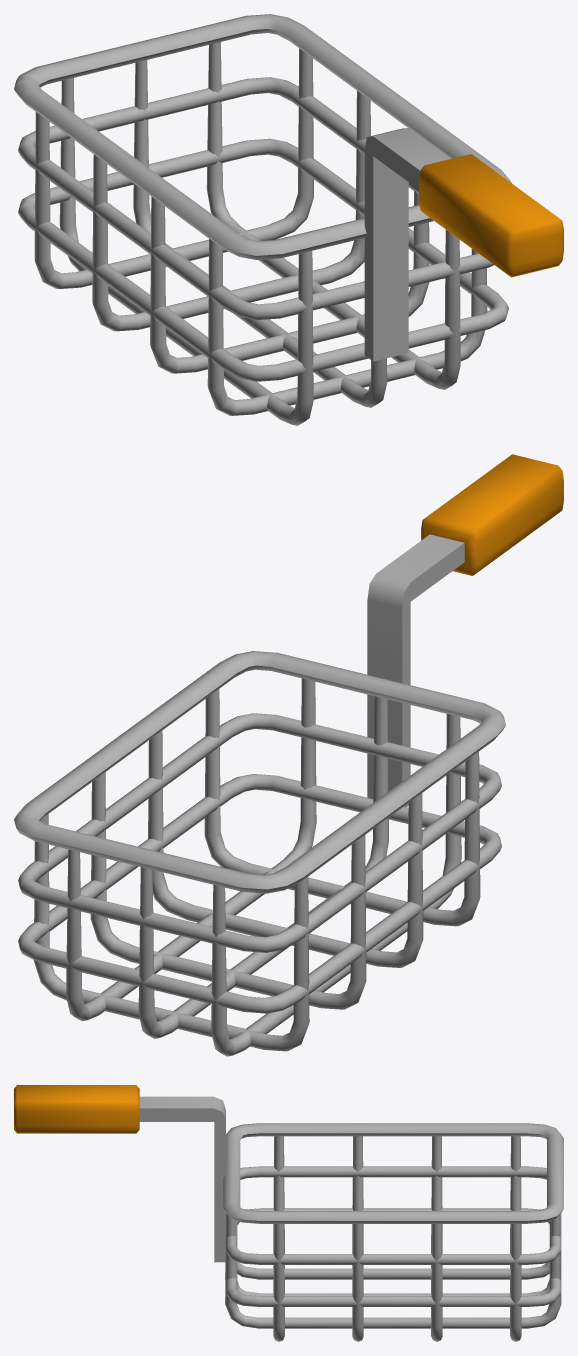
The model's file is Frying_Basket_01.fbx.
3 views of the same model, one above another, from view 1: azimuth 30°, elevation 25°; view 2: azimuth 150°, elevation 25°; view 3: azimuth 270°, elevation 25° (orthographic). The views are drawn at different scales.
Visible parts, largest first — view 1: Frying_Basket_01; view 2: Frying_Basket_01; view 3: Frying_Basket_01.
Boxes of the visible parts, x1,y1,x2,y2 form: Frying_Basket_01: [14, 14, 563, 425]; Frying_Basket_01: [14, 454, 563, 1056]; Frying_Basket_01: [14, 1085, 563, 1341].
Size of the model in its own units: 32.37 by 33.58 by 79.32.
